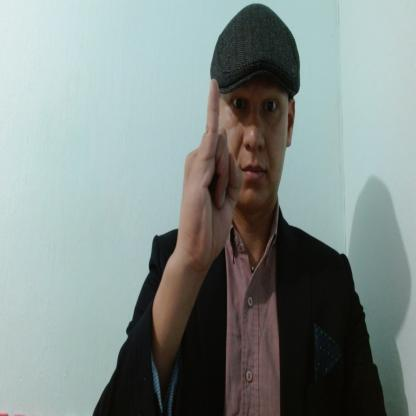I: (178, 76, 245, 262)
